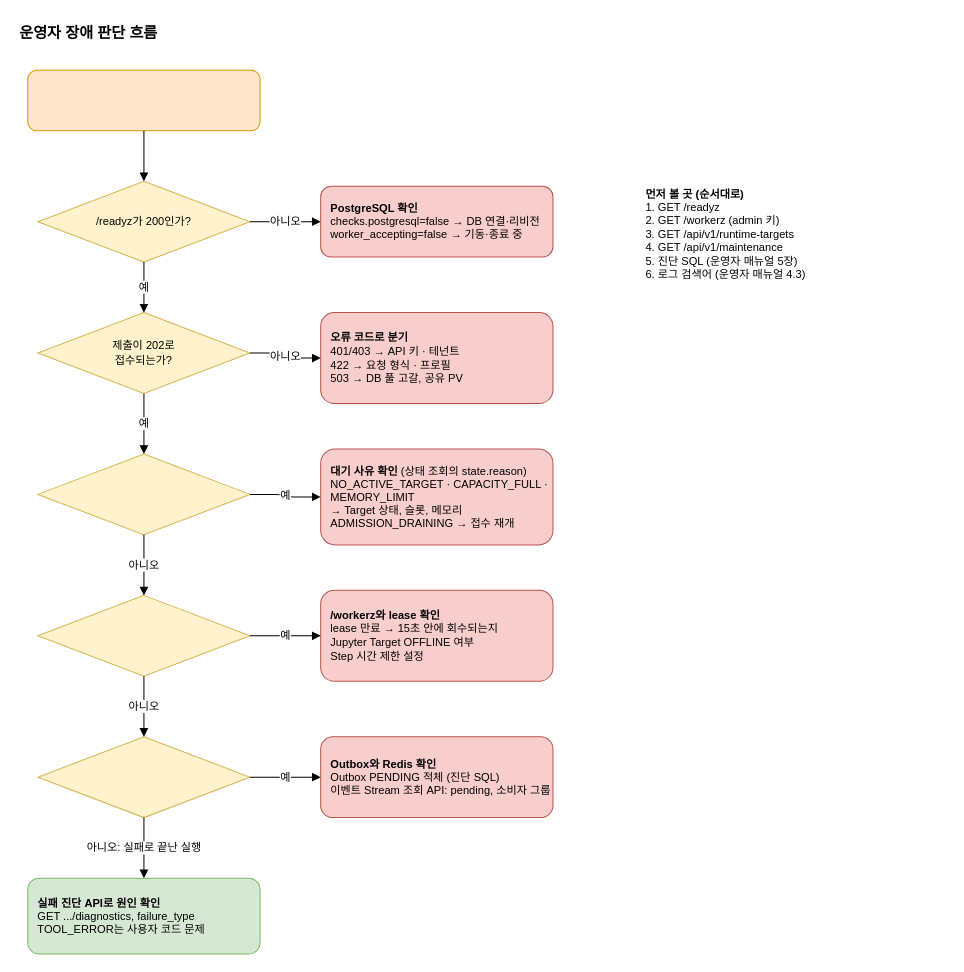
This 964x972 diagram has some shape labels left out. The shapes that lost their labels are listed below. From the top down, each one's centre as x and y in pixels, then its label:
At point 143,100: "증상 접수 실행이 안 끝남 · 오류 응답 · 이벤트 안 옴".
At point 143,494: "QUEUED에서 오래 머무는가?".
At point 143,635: "RUNNING인데 진행이 없는가?".
At point 143,777: "상태는 끝났는데 이벤트가 안 오는가?".
